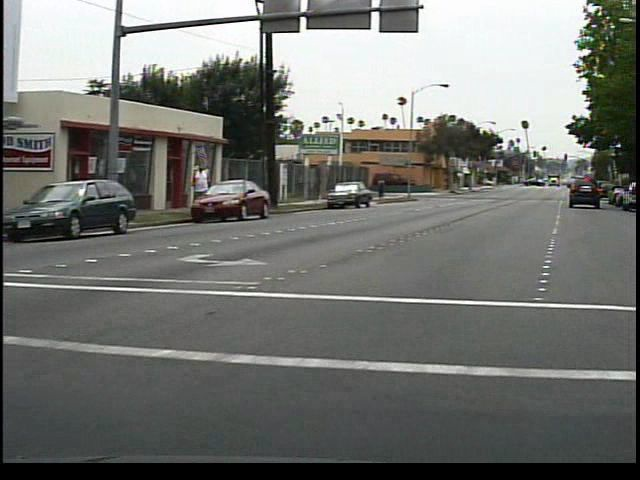person: (193, 159, 219, 218), (381, 174, 395, 201)
